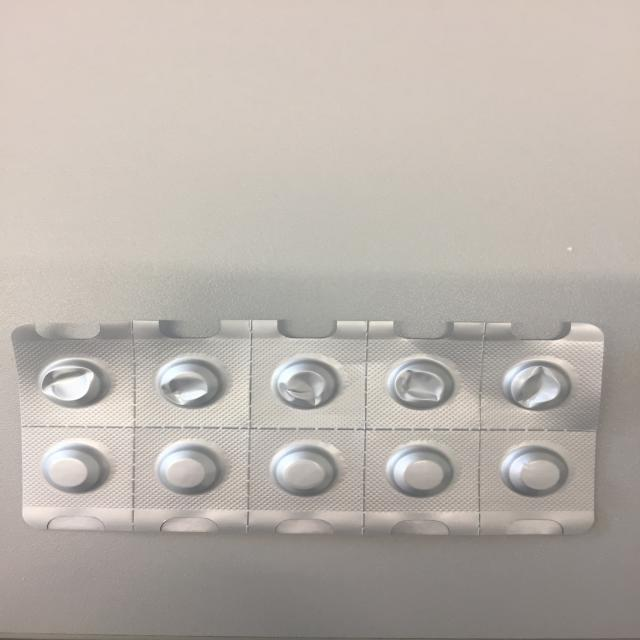Empty: (264, 351, 356, 415), (378, 355, 467, 416), (495, 358, 583, 416), (150, 354, 232, 416), (31, 355, 120, 412)
Pill: (264, 440, 349, 500), (494, 442, 578, 500), (382, 442, 462, 500), (34, 439, 114, 495), (148, 440, 227, 496)
